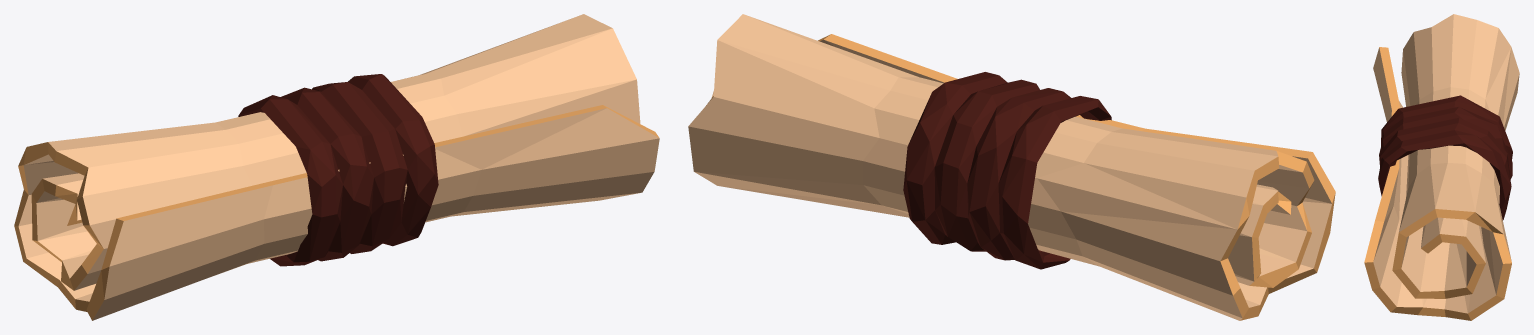
The model's file is Scroll_2.fbx.
3 views of the same model, side by side, from view 1: azimuth 30°, elevation 25°; view 2: azimuth 150°, elevation 25°; view 3: azimuth 270°, elevation 25° (orthographic). The views are drawn at different scales.
Parts seen in each view (by area): view 1: Scroll_2; view 2: Scroll_2; view 3: Scroll_2.
Part boxes in pixels (bbox=[...]): Scroll_2: bbox=[14, 14, 659, 320]; Scroll_2: bbox=[688, 14, 1335, 320]; Scroll_2: bbox=[1364, 14, 1519, 320].
Size of the model in its own units: 43.02 by 12.2 by 14.35.
